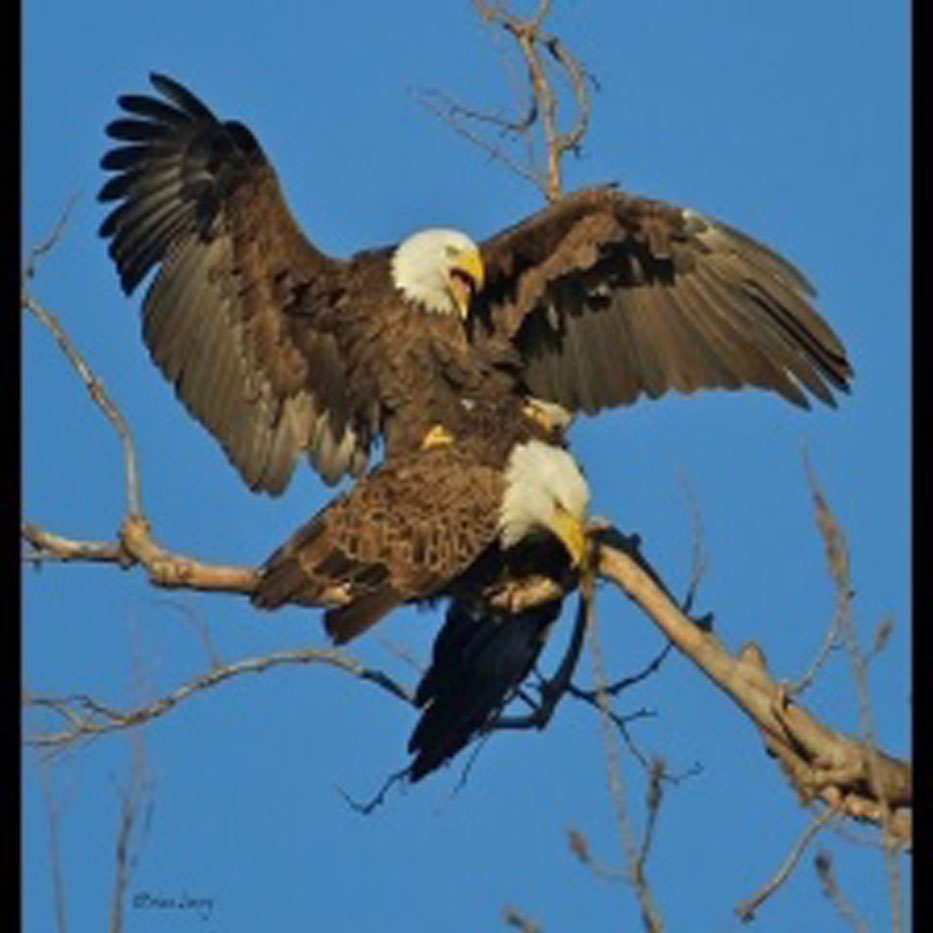Pengoyak Daging: (547, 511, 597, 594), (440, 255, 490, 316)
